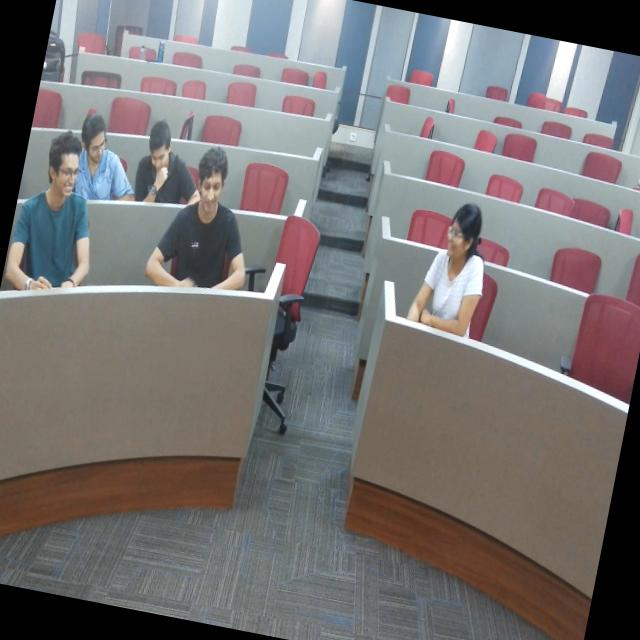cheating: (3, 132, 98, 304), (71, 97, 142, 218)
non-cheating: (156, 144, 252, 305), (124, 103, 190, 209)
